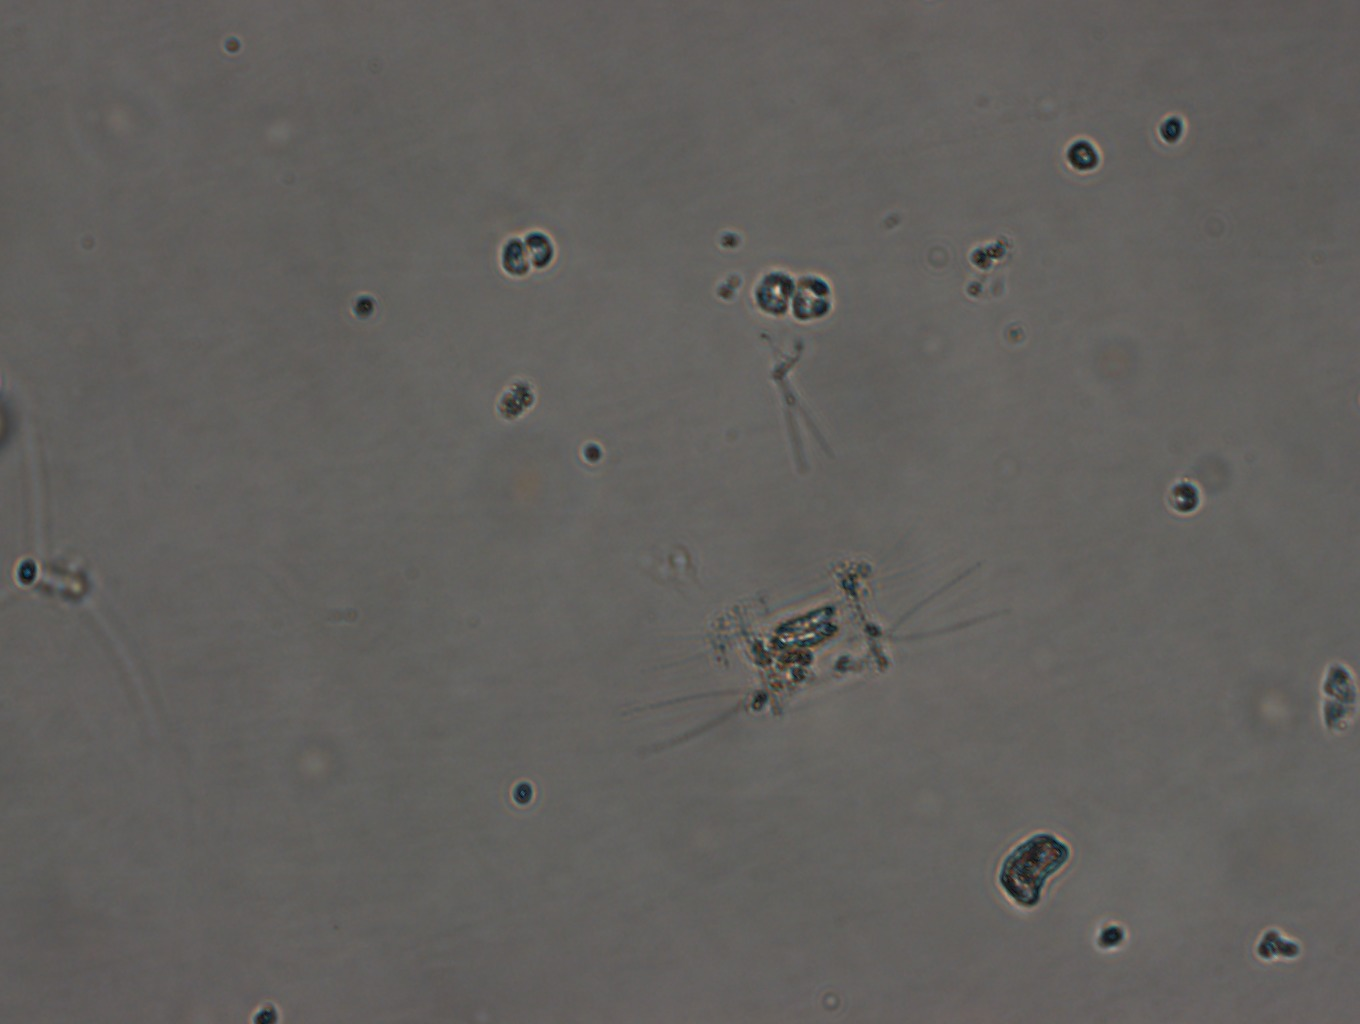chaetoceros: (664, 563, 990, 743)
